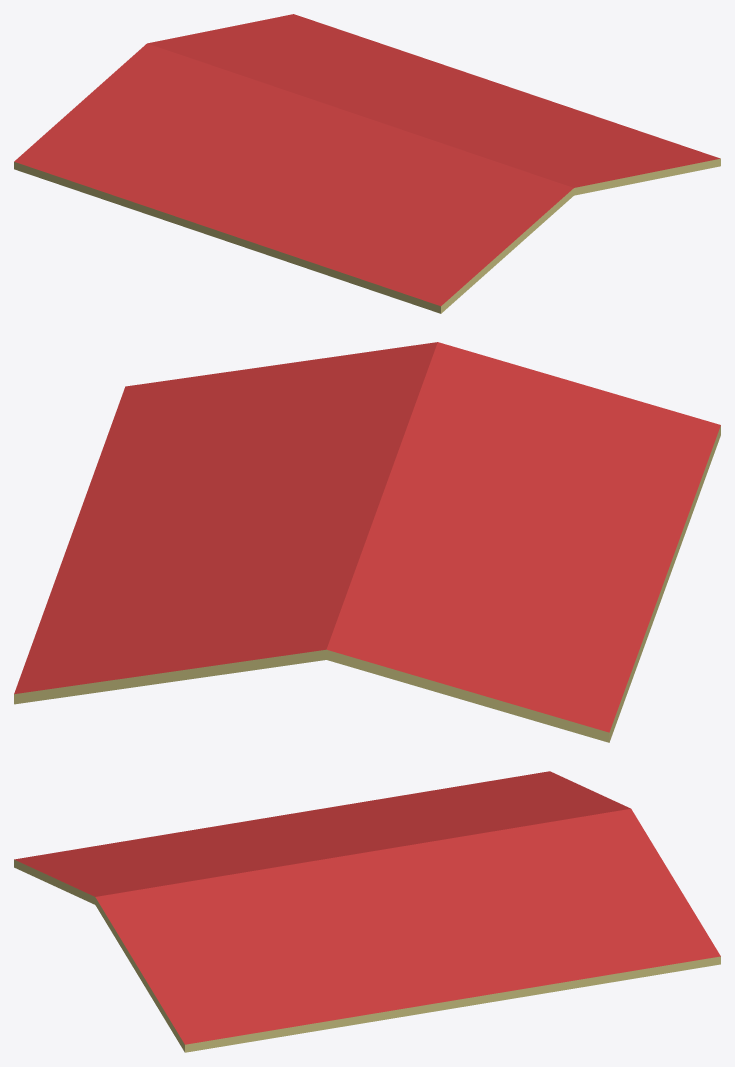
The picture shows the model from 3 angles, top to bottom: view 1: azimuth 30°, elevation 25°; view 2: azimuth 150°, elevation 25°; view 3: azimuth 270°, elevation 25°; orthographic projection. The views are drawn at different scales.
Bounding box in the file's own units: 7.32 × 8 × 0.731.
